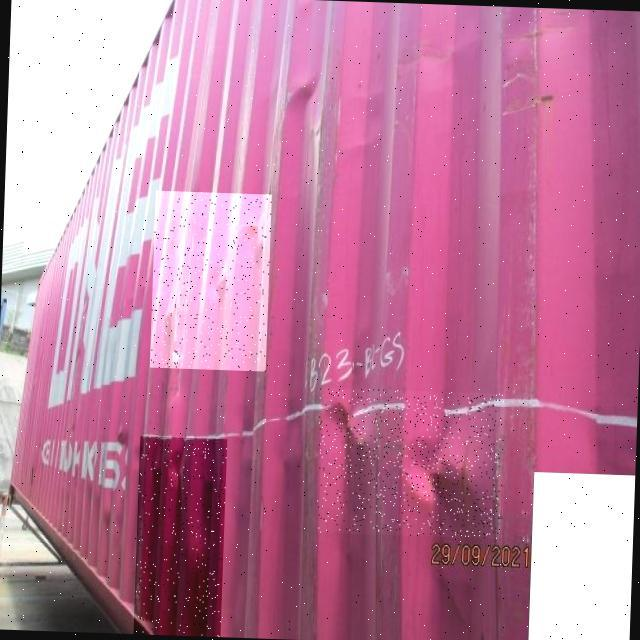Dent: (315, 387, 505, 538)
Minor-Dent: (150, 190, 272, 371), (133, 436, 227, 637)
